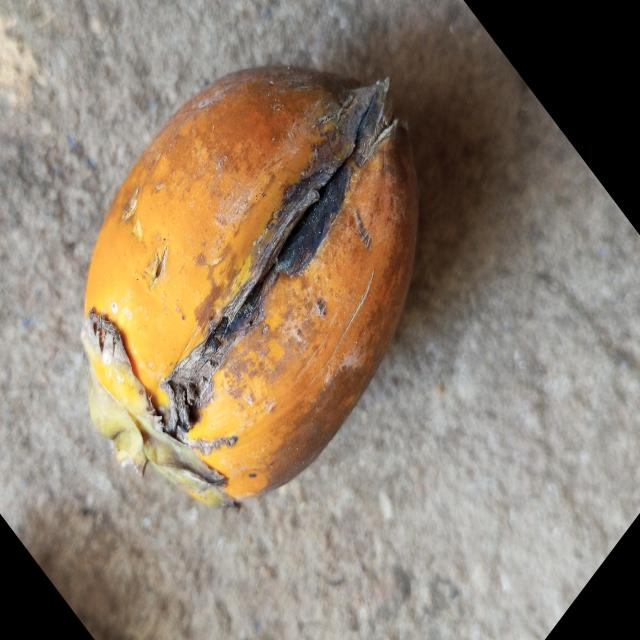damaged: (79, 65, 420, 513)
